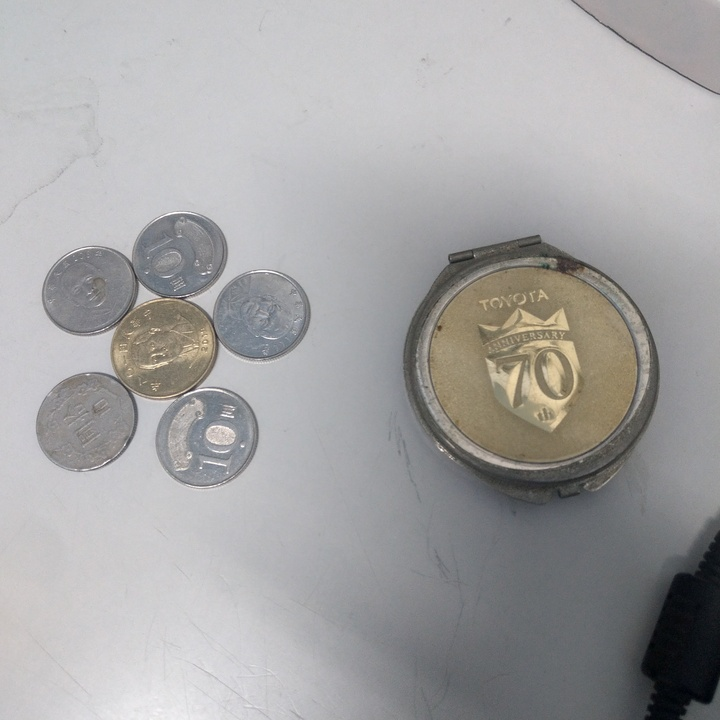10 dollar: (155, 386, 262, 492), (32, 373, 143, 473), (211, 267, 312, 363), (39, 245, 141, 340), (130, 212, 230, 300)
50 dollar: (109, 296, 221, 403)
